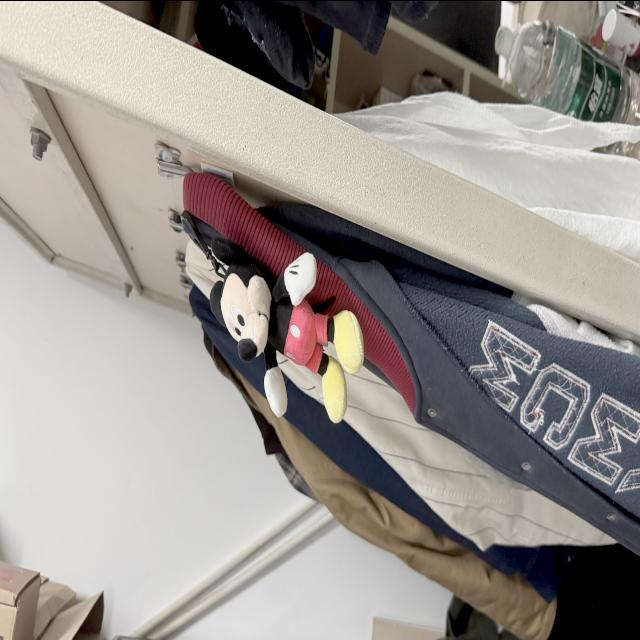mickey: (211, 237, 363, 421)
